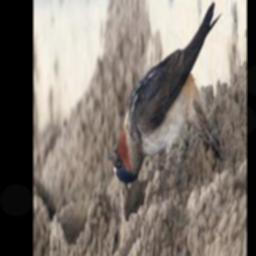Swallow: (107, 1, 225, 187)
